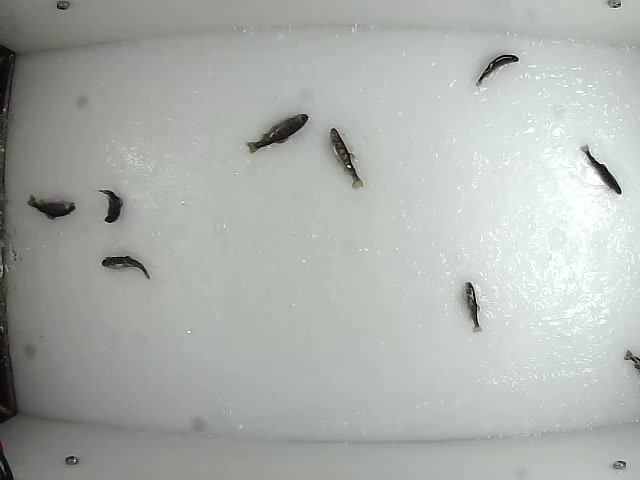fish: (244, 114, 312, 158), (325, 126, 366, 189), (579, 142, 624, 196), (472, 52, 522, 91), (99, 255, 151, 284), (24, 195, 78, 222), (463, 280, 484, 335), (99, 187, 124, 224)
